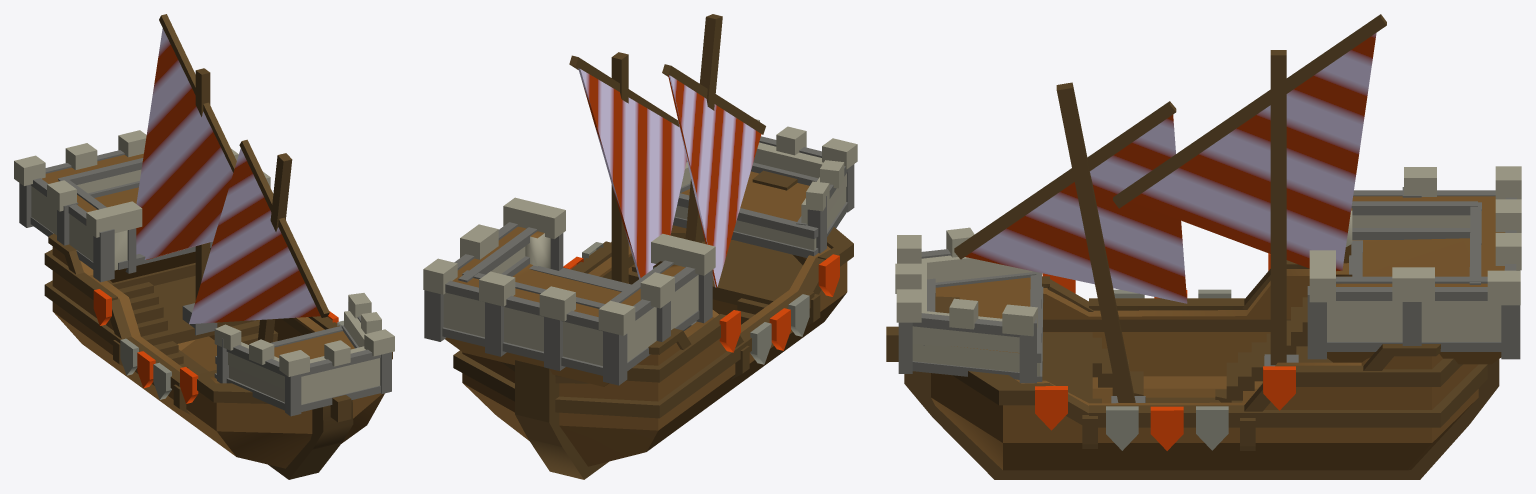
File: trooptransportship.fbx
3 views of the same model, side by side, from view 1: azimuth 30°, elevation 25°; view 2: azimuth 150°, elevation 25°; view 3: azimuth 270°, elevation 25° (orthographic). The views are drawn at different scales.
Parts seen in each view (by area): view 1: polySurface43; view 2: polySurface43; view 3: polySurface43.
Boxes of the visible parts, x1=… form: polySurface43: x1=14, y1=14, x2=394, y2=479; polySurface43: x1=423, y1=14, x2=857, y2=479; polySurface43: x1=886, y1=14, x2=1521, y2=479.
Bounding box in the file's own units: 113 × 201 × 252.
1 material, 1 textured.
